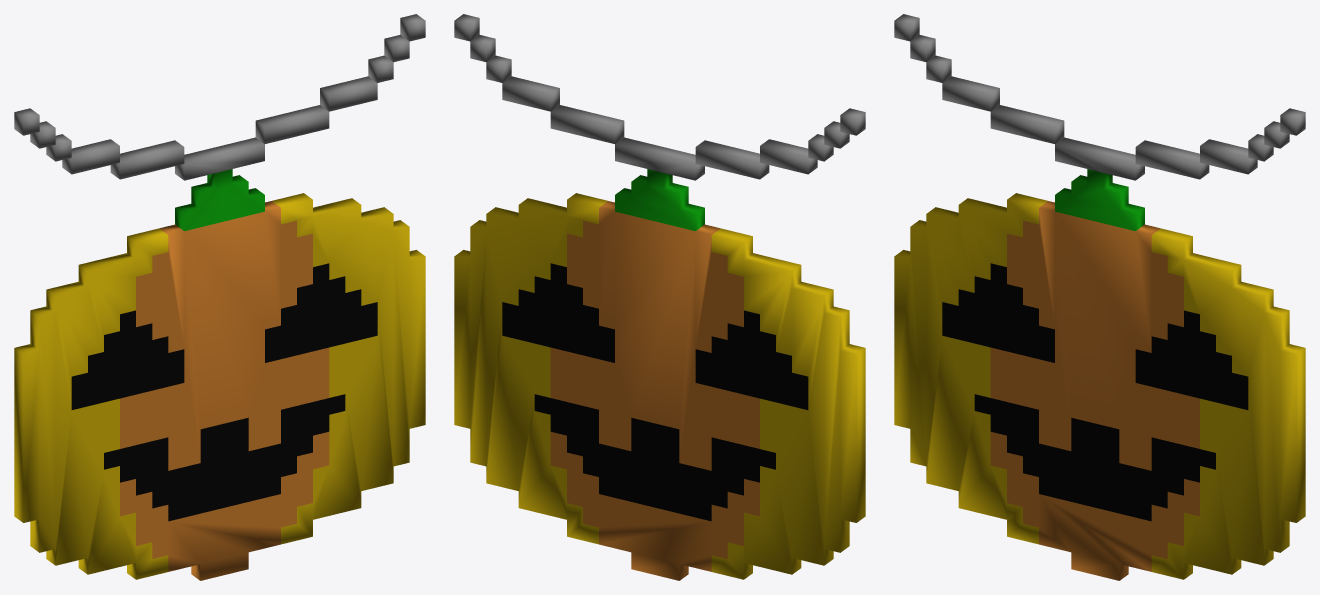
File: Decoration5.fbx
3 views of the same model, side by side, from view 1: azimuth 30°, elevation 25°; view 2: azimuth 150°, elevation 25°; view 3: azimuth 330°, elevation 25° (orthographic).
Visible parts, largest first — view 1: ObjObject.005; view 2: ObjObject.005; view 3: ObjObject.005.
Part boxes in pixels (x1,y1,x2,y2): ObjObject.005: (14, 14, 425, 580); ObjObject.005: (454, 14, 865, 580); ObjObject.005: (894, 14, 1305, 580).
Bounding box in the file's own units: 41.47 × 49.77 × 1.66.
